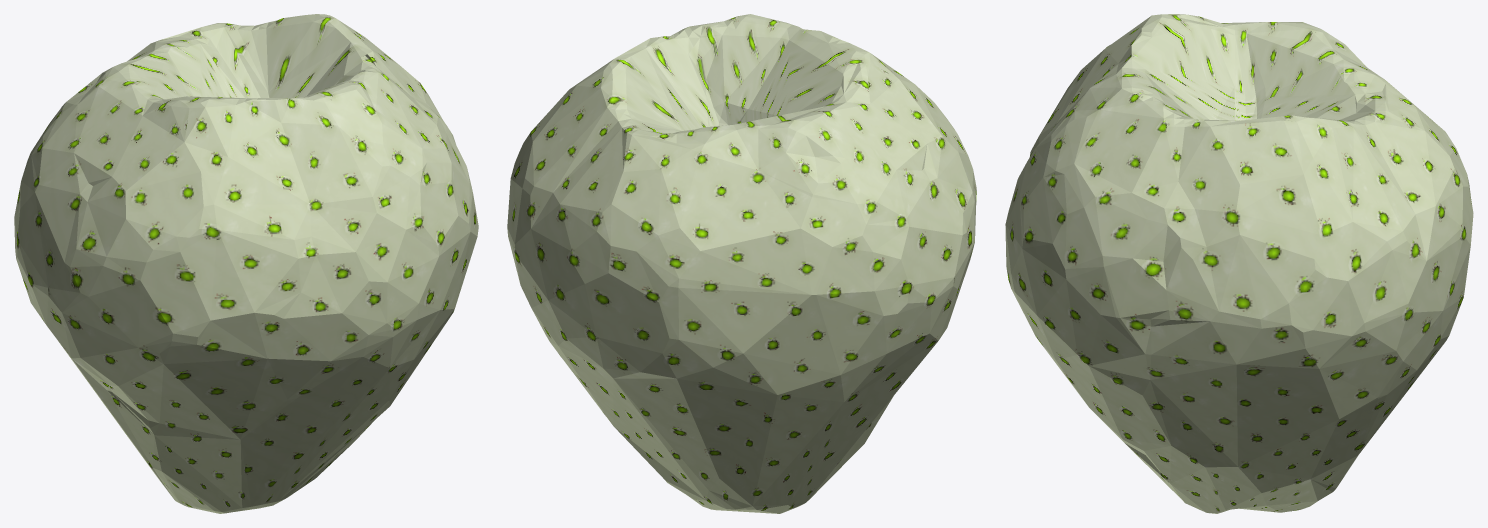
3 views of the same model, side by side, from view 1: azimuth 30°, elevation 25°; view 2: azimuth 150°, elevation 25°; view 3: azimuth 270°, elevation 25° (orthographic). The views are drawn at different scales.
Parts seen in each view (by area): view 1: _004_Meshed; view 2: _004_Meshed; view 3: _004_Meshed.
Boxes of the visible parts, left/top/right/bottom form: _004_Meshed: left=14, top=14, right=478, bottom=513; _004_Meshed: left=507, top=14, right=976, bottom=513; _004_Meshed: left=1005, top=14, right=1473, bottom=513.
Bounding box in the file's own units: 0.1098 × 0.1046 × 0.1135.
1 material, 1 textured.
